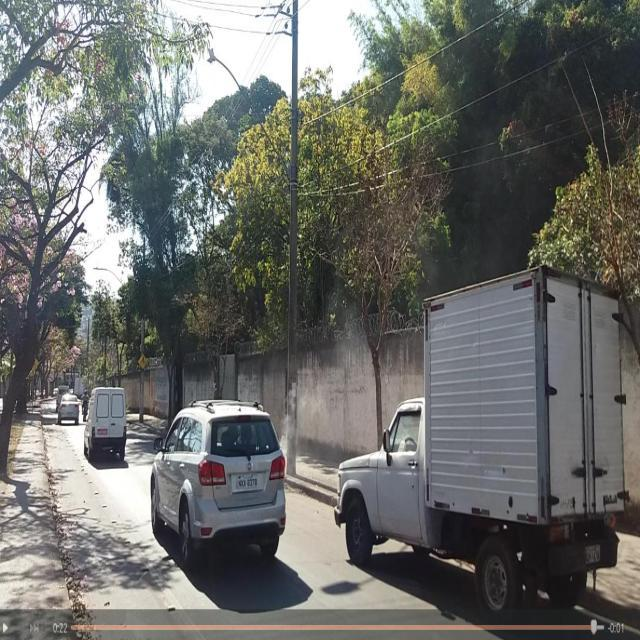Smoke: (270, 348, 296, 518)
